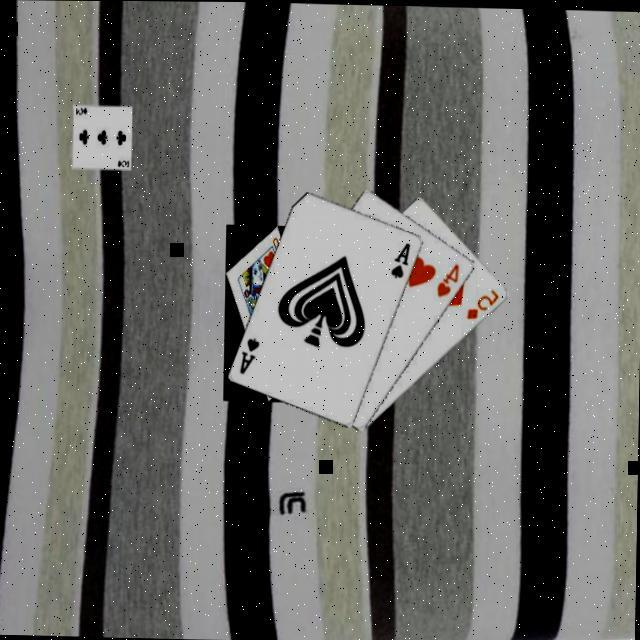4H: (432, 256, 462, 296)
5D: (463, 283, 501, 320)
AS: (236, 332, 261, 374), (386, 238, 412, 278)
